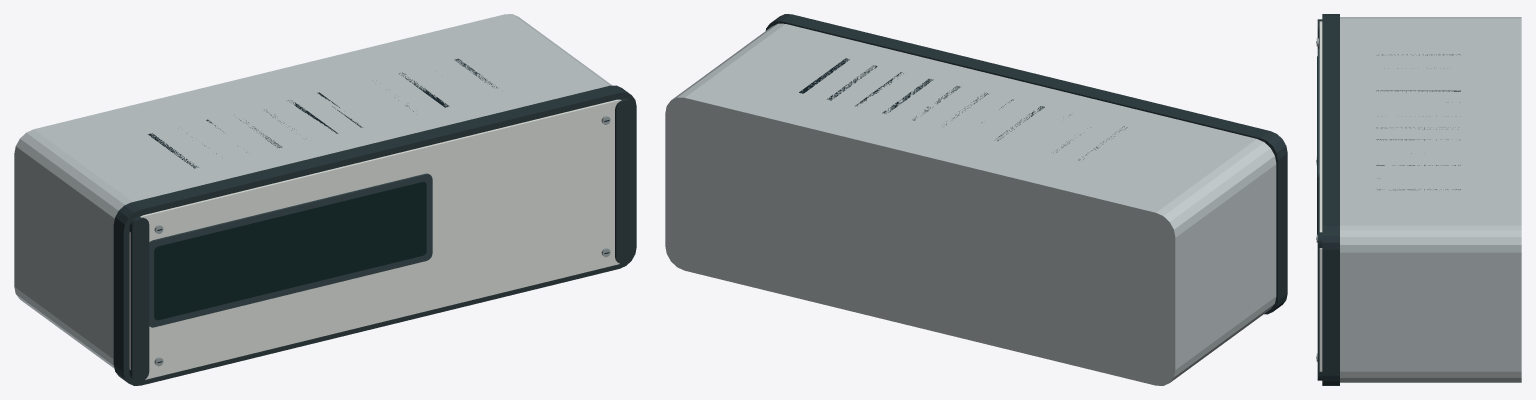
File: meter.obj
The picture shows the model from 3 angles, left to right: view 1: azimuth 30°, elevation 25°; view 2: azimuth 150°, elevation 25°; view 3: azimuth 270°, elevation 25°; orthographic projection. The views are drawn at different scales.
Bounding box in the file's own units: 1.06 × 0.371 × 0.4065.
